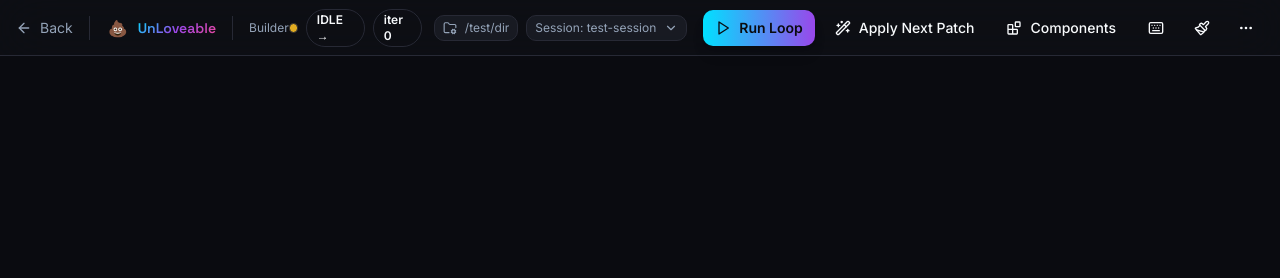
Test: BuilderHeader Deployment Integration › renders the Deploy button in the dropdown menu
The width and height of the screenshot is (1280, 278).
Click the button named "More actions". click: point(1246, 28)
box: [1228,10,1264,46]
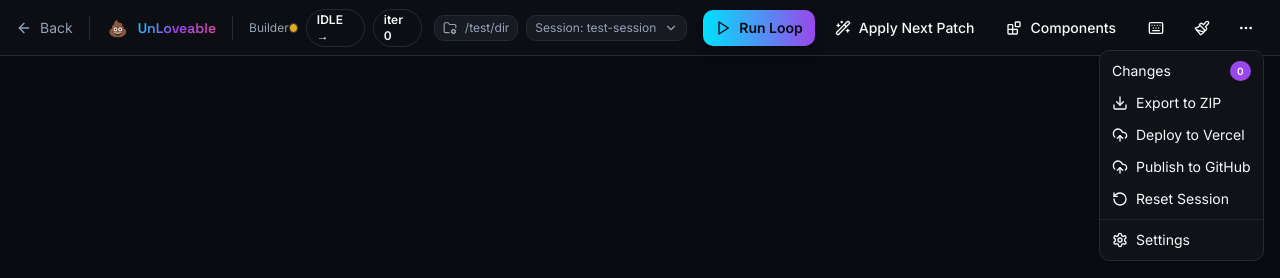
Check: the menu item "Deploy to Vercel" is shown, box [1112,126,1245,143]
